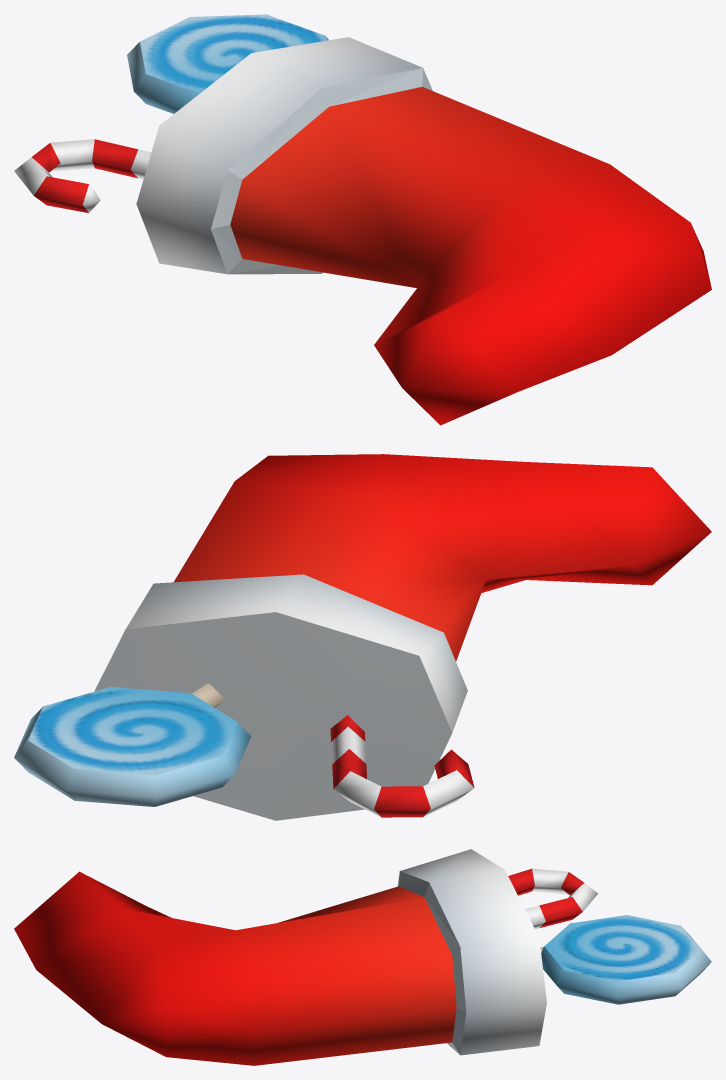
The model's file is Christmas_Sock_B.fbx.
3 views of the same model, one above another, from view 1: azimuth 30°, elevation 25°; view 2: azimuth 150°, elevation 25°; view 3: azimuth 270°, elevation 25° (orthographic). The views are drawn at different scales.
Parts seen in each view (by area): view 1: Christmas_Sock_B; view 2: Christmas_Sock_B; view 3: Christmas_Sock_B.
Part boxes in pixels (left/top/right/bottom): Christmas_Sock_B: left=14, top=14, right=711, bottom=425; Christmas_Sock_B: left=14, top=454, right=711, bottom=820; Christmas_Sock_B: left=14, top=849, right=711, bottom=1065.
Size of the model in its own units: 4.29 by 1.84 by 7.56.
